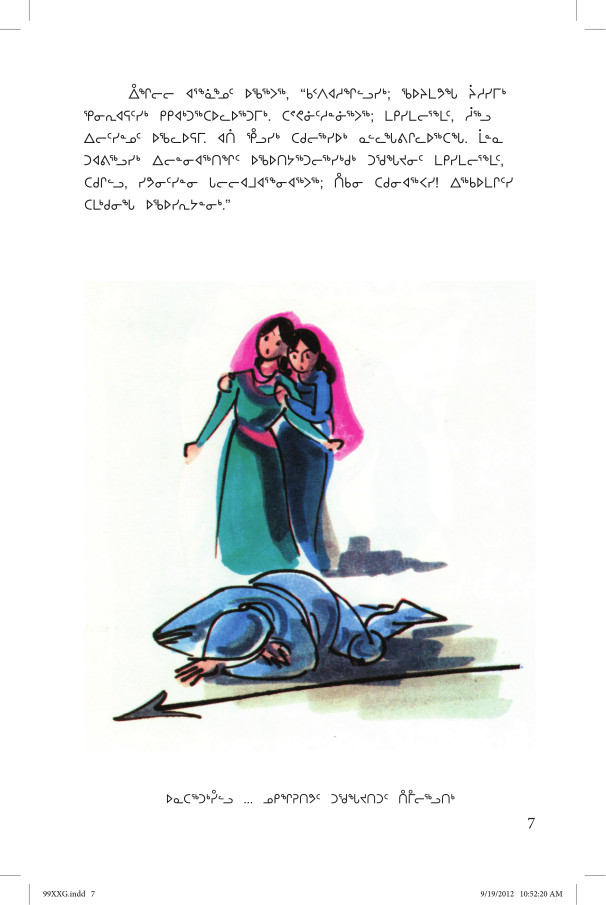inuktitut: (73, 80, 523, 222), (157, 783, 464, 811)
